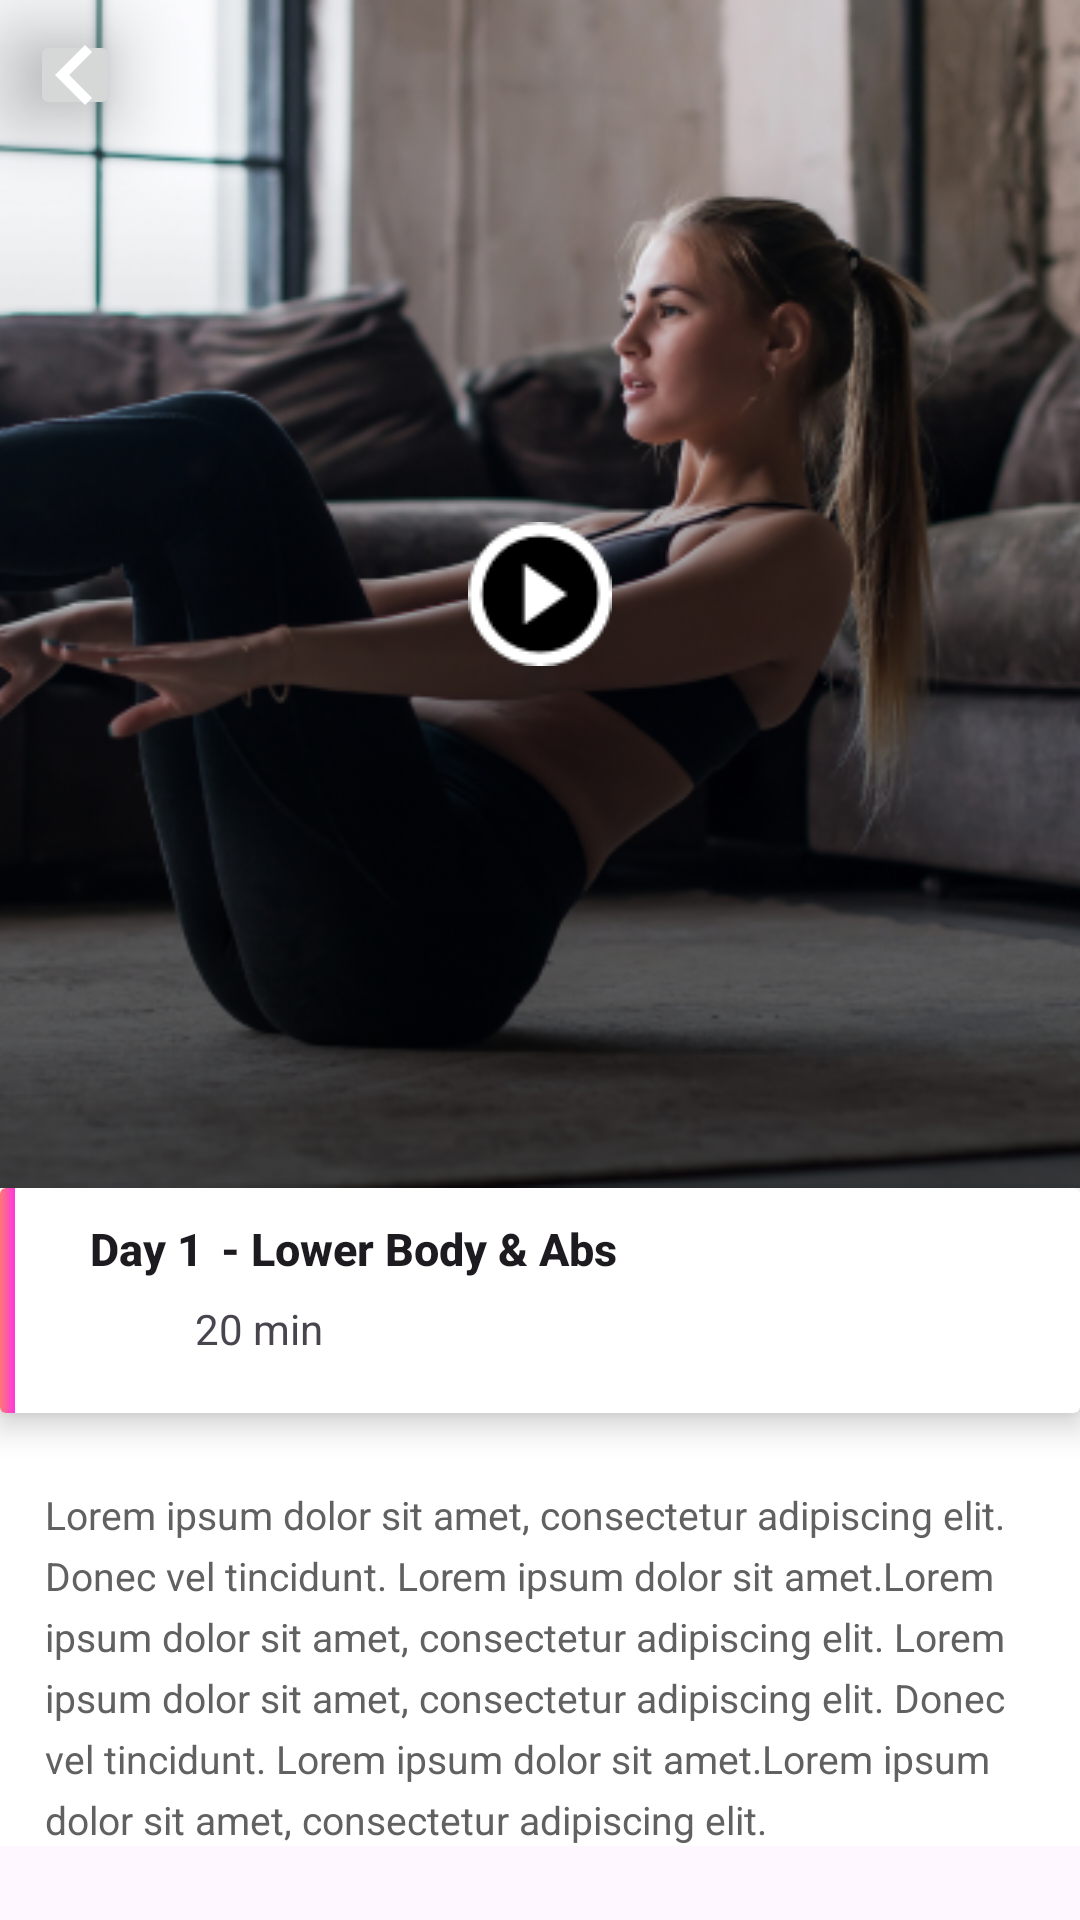

Icon bounding boxes for this 1080×1920 phone screenshot, format (x1, y1, x2, y2):
chevron left: (56, 46, 91, 104)
